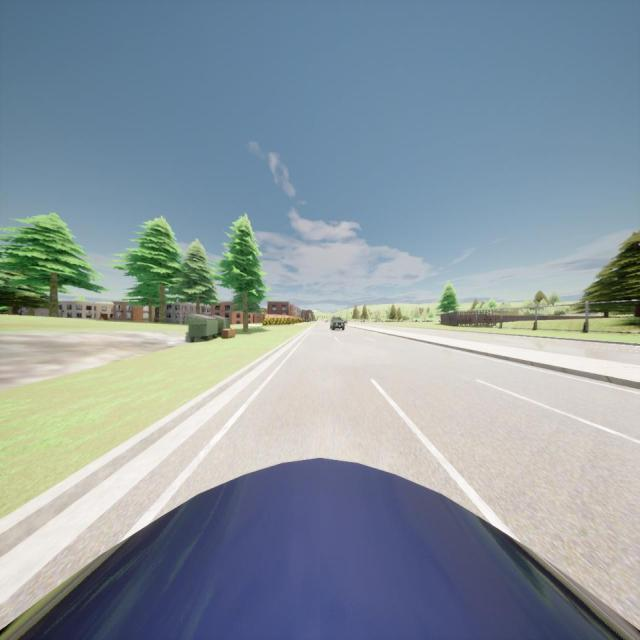Vehicle: (0, 457, 640, 640), (330, 316, 346, 331)
